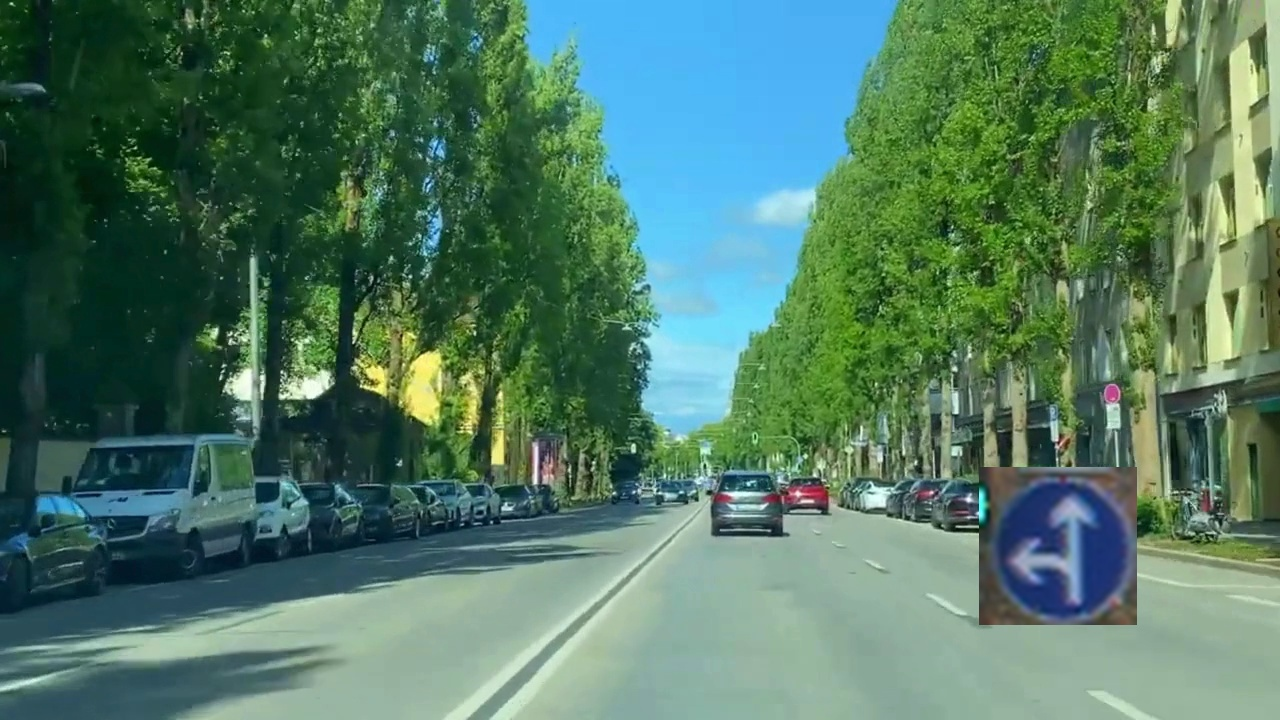Straight/left: (979, 467, 1137, 625)
